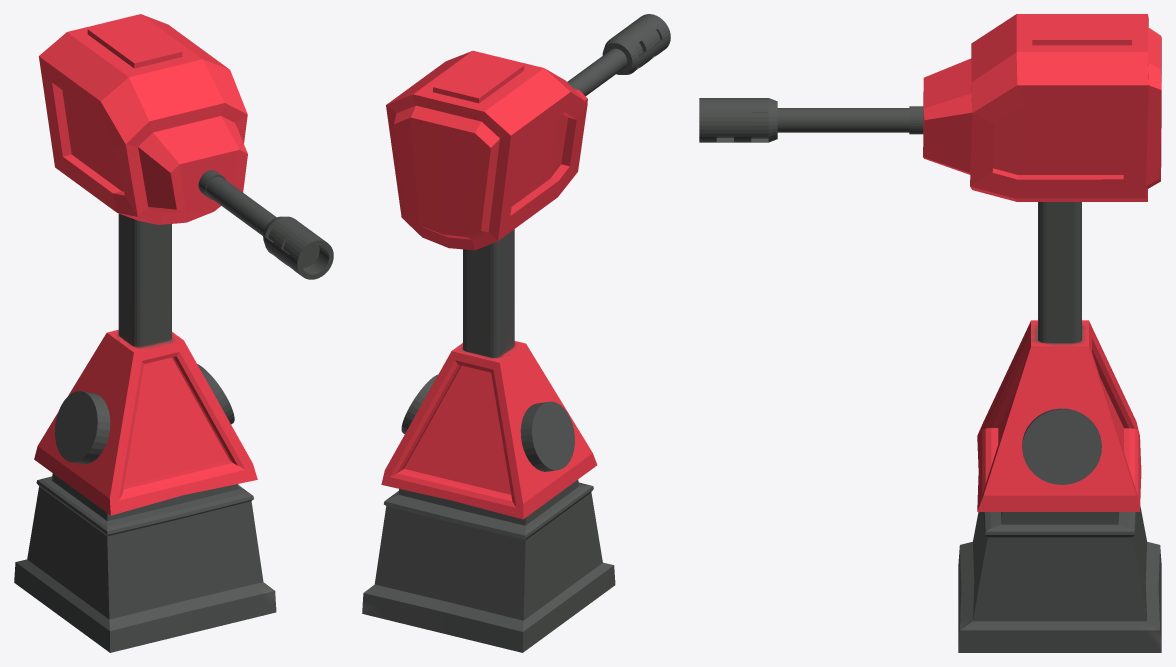
File: FireTower 1.fbx
3 renders of one model, left to right at view 1: azimuth 30°, elevation 25°; view 2: azimuth 150°, elevation 25°; view 3: azimuth 270°, elevation 25°, orthographic. The views are drawn at different scales.
Visible parts, largest first — view 1: Tower_Base, Tower_Top, Tower_Barrel; view 2: Tower_Base, Tower_Top, Tower_Barrel; view 3: Tower_Base, Tower_Top, Tower_Barrel.
Part boxes in pixels (x1=…): Tower_Base: x1=14, y1=213, x2=276, y2=652; Tower_Top: x1=38, y1=14, x2=247, y2=224; Tower_Barrel: x1=198, y1=170, x2=333, y2=279; Tower_Base: x1=362, y1=229, x2=615, y2=652; Tower_Top: x1=386, y1=50, x2=587, y2=250; Tower_Barrel: x1=567, y1=14, x2=670, y2=96; Tower_Base: x1=958, y1=202, x2=1161, y2=652; Tower_Top: x1=923, y1=14, x2=1161, y2=201; Tower_Barrel: x1=699, y1=98, x2=923, y2=142.
Size of the model in its own units: 200 by 631 by 455.
